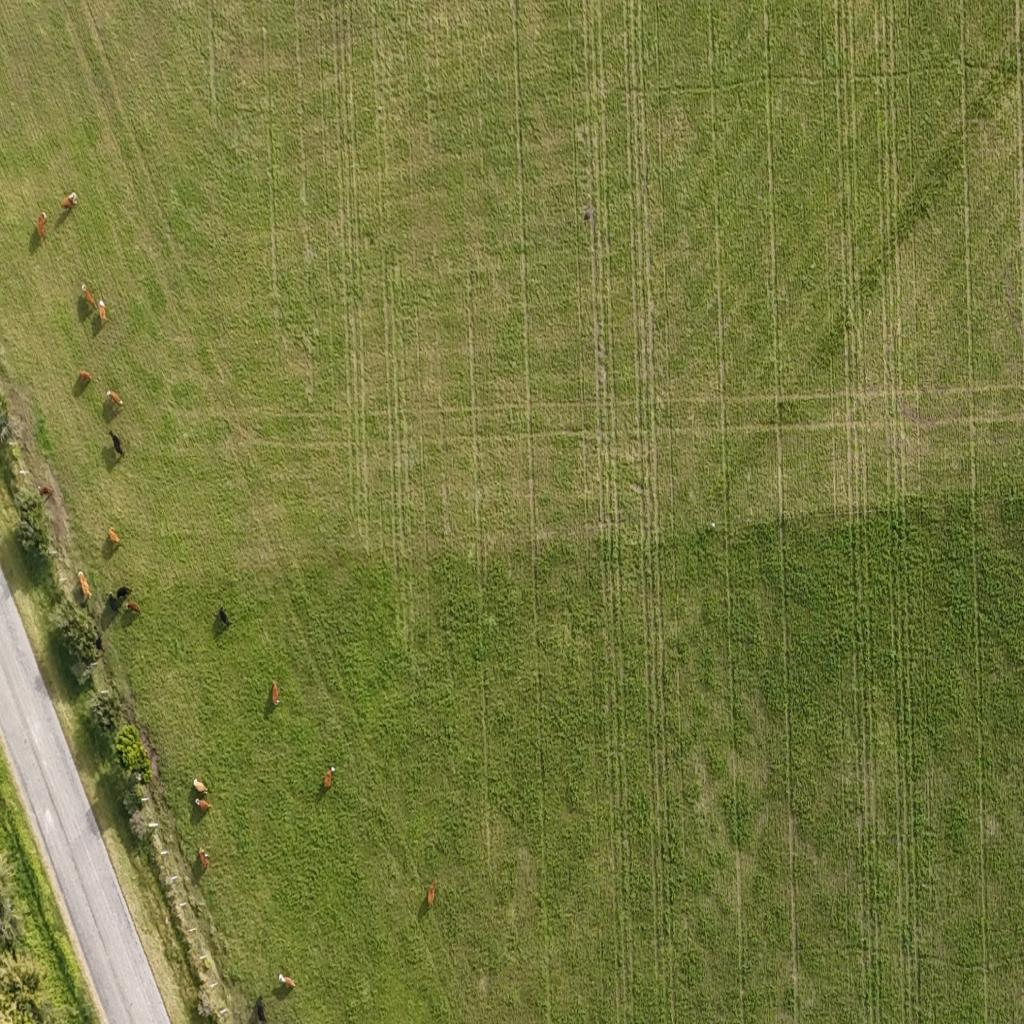cow: (75, 281, 97, 323), (249, 994, 269, 1022), (92, 297, 106, 335), (78, 571, 91, 601), (110, 430, 124, 457), (216, 603, 230, 626), (107, 388, 123, 408), (278, 972, 296, 989), (426, 879, 436, 908), (61, 193, 77, 211), (323, 767, 335, 791), (108, 526, 122, 546), (37, 212, 47, 240), (271, 676, 281, 704), (195, 796, 211, 812), (192, 777, 206, 795), (199, 846, 210, 868), (108, 592, 120, 612), (78, 370, 92, 387), (125, 599, 141, 613), (94, 632, 104, 654), (40, 484, 54, 499), (116, 586, 130, 600)
